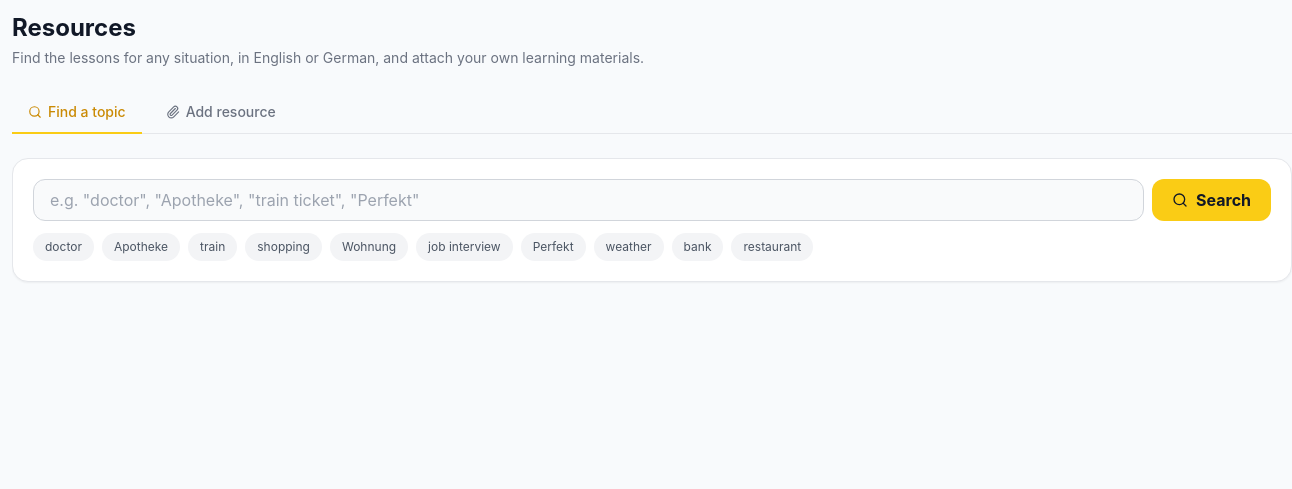
Test case: suggestion chips search directly, and empty results say so
Click the button "train".
click(213, 247)  # box x1=188 y1=233 x2=237 y2=261
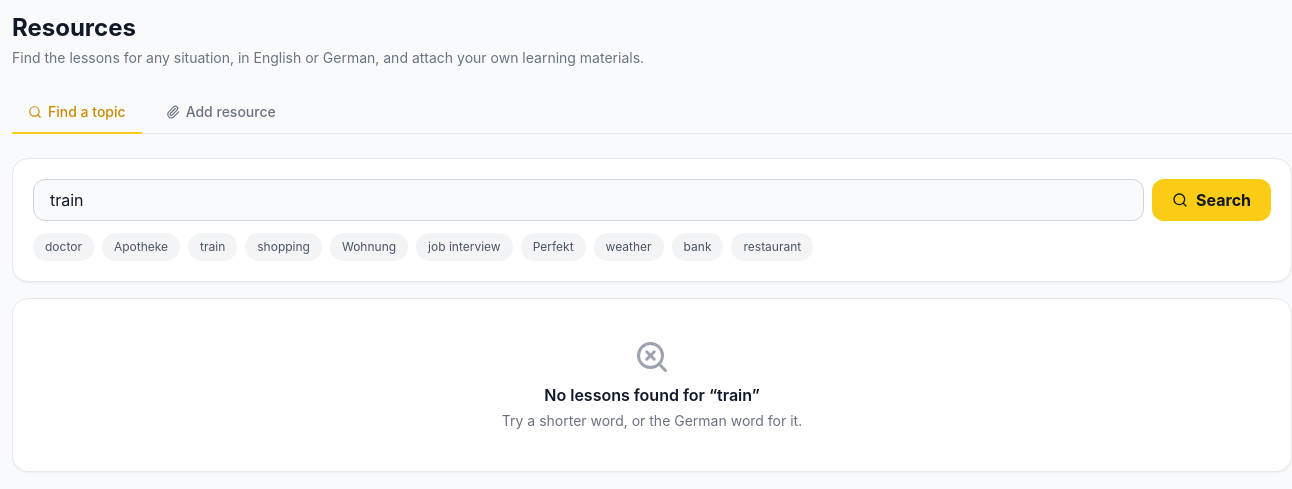
Now the text "No lessons found for “train”" is shown, box x1=544 y1=385 x2=760 y2=405
